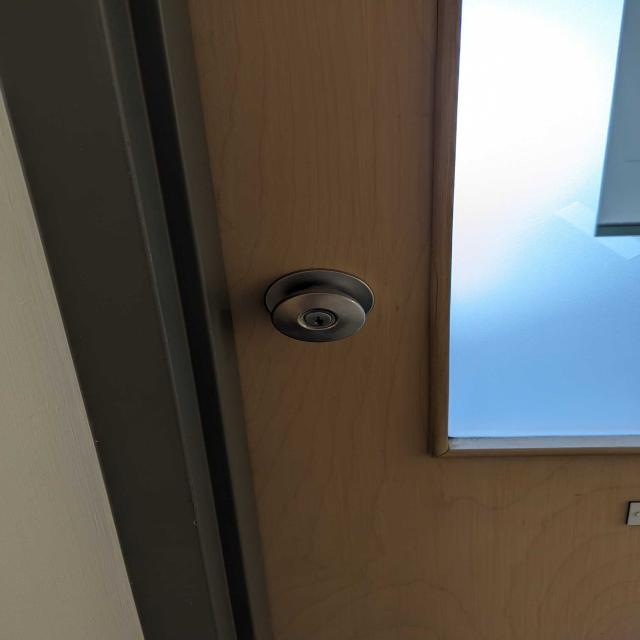door-knob: (264, 269, 373, 342)
